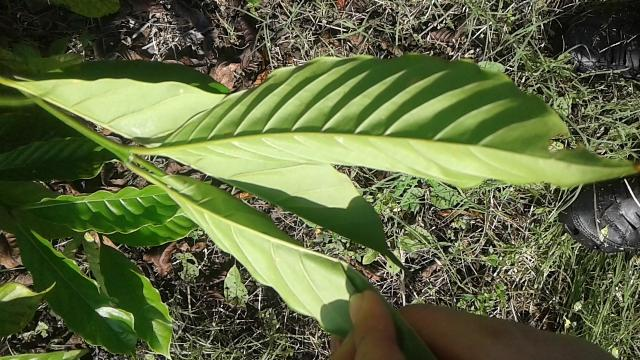healthy: (158, 54, 640, 188)
